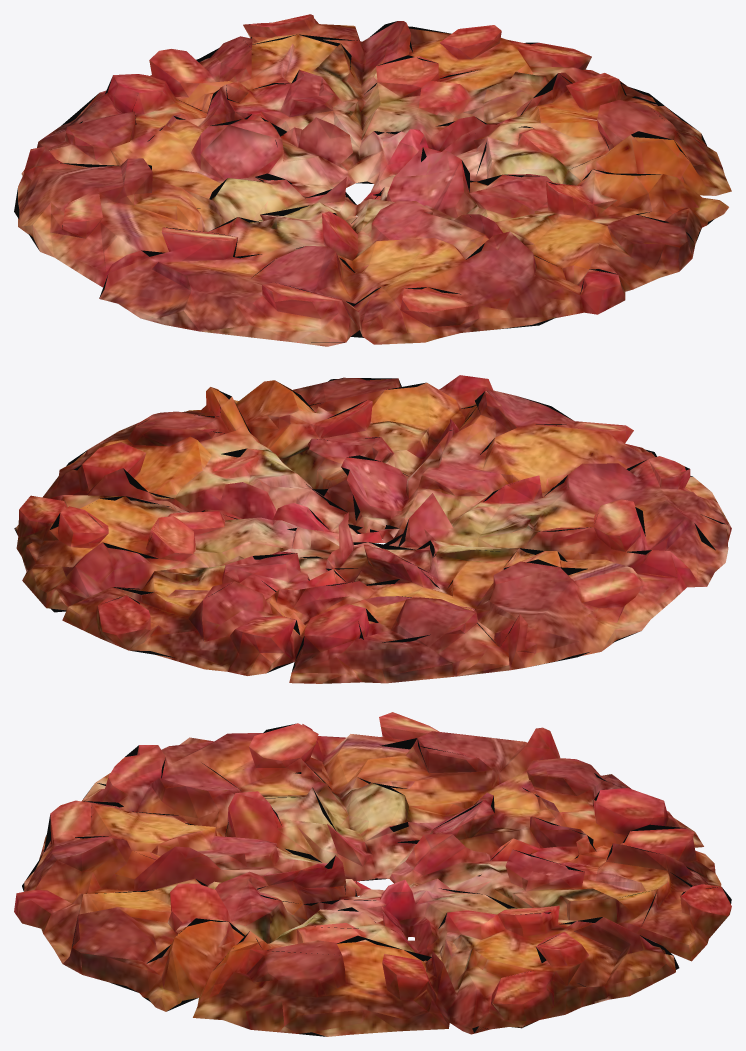
The model's file is pizza.glb.
The picture shows the model from 3 angles, top to bottom: view 1: azimuth 30°, elevation 25°; view 2: azimuth 150°, elevation 25°; view 3: azimuth 270°, elevation 25°; orthographic projection. The views are drawn at different scales.
Visible parts, largest first — view 1: Material2, Material3; view 2: Material2, Material3; view 3: Material2, Material3.
Part boxes in pixels (x1=…): Material2: x1=18, y1=14, x2=731, y2=346; Material3: x1=14, y1=21, x2=714, y2=342; Material2: x1=14, y1=375, x2=731, y2=683; Material3: x1=14, y1=378, x2=726, y2=672; Material2: x1=14, y1=712, x2=731, y2=1036; Material3: x1=22, y1=723, x2=731, y2=1036.
Bounding box in the file's own units: 12.15 × 1.1 × 12.34.
Materials: 2 (1 with a texture image).
